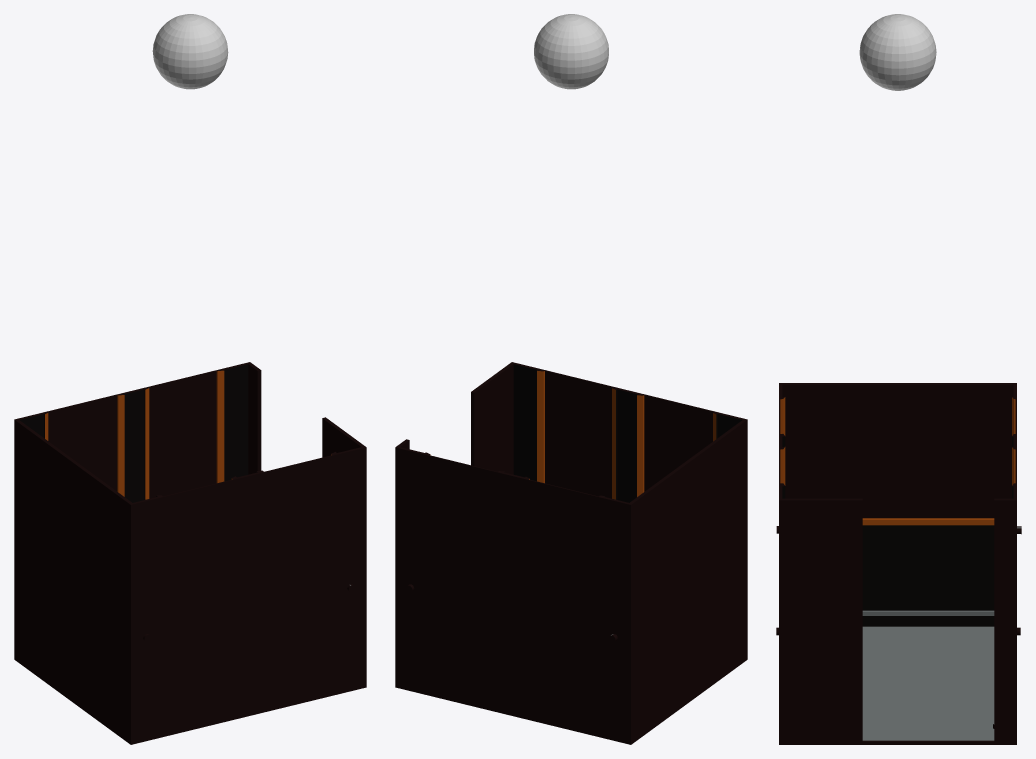
File: protoElevator.obj
The picture shows the model from 3 angles, left to right: view 1: azimuth 30°, elevation 25°; view 2: azimuth 150°, elevation 25°; view 3: azimuth 270°, elevation 25°; orthographic projection.
Parts seen in each view (by area): view 1: Cube, Sphere; view 2: Cube, Sphere; view 3: Cube, Sphere.
Part boxes in pixels (<box>): Cube: <box>14,362,366,744</box>; Sphere: <box>152,14,228,89</box>; Cube: <box>395,362,747,744</box>; Sphere: <box>534,14,608,89</box>; Cube: <box>776,383,1021,744</box>; Sphere: <box>859,14,936,90</box>.
Bounding box in the file's own units: 7.21 × 19.15 × 6.37.
